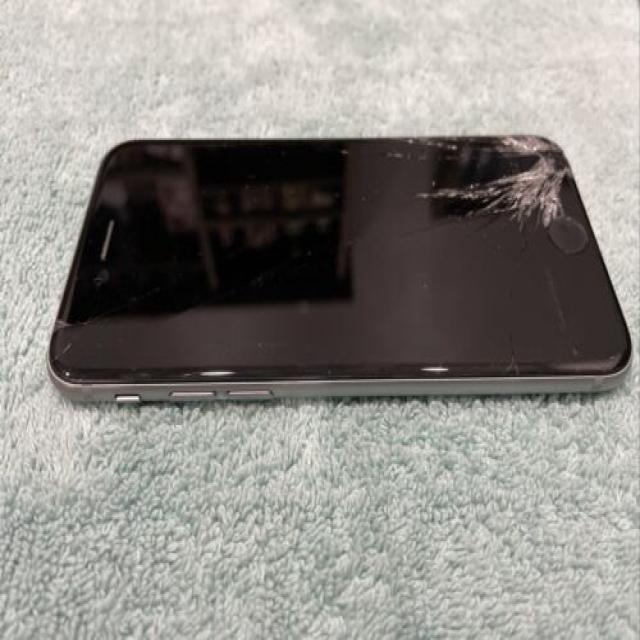Crack: (387, 131, 583, 237), (49, 313, 102, 370)
